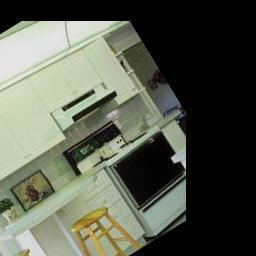Electrodomestico: (83, 105, 206, 241)
